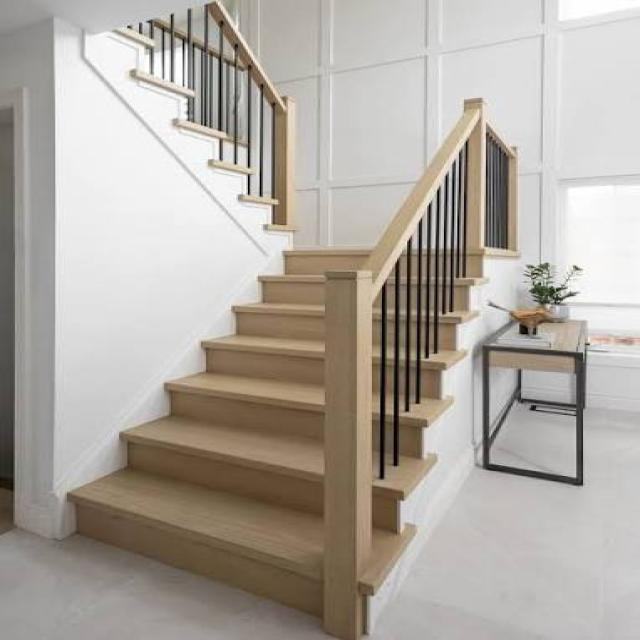Stairs: (55, 0, 536, 640)
